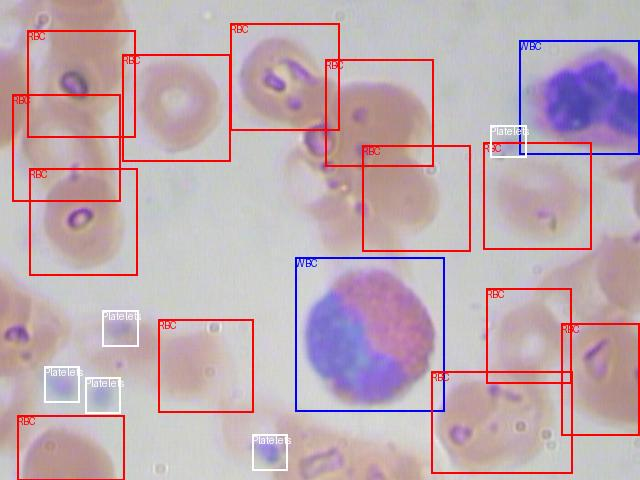Platelets: (102, 310, 138, 346), (85, 377, 120, 413), (44, 366, 79, 402), (252, 434, 287, 470), (490, 125, 526, 157)
RBC: (431, 371, 572, 473), (230, 23, 339, 130), (122, 54, 230, 161), (483, 142, 591, 249), (325, 59, 433, 166), (29, 168, 137, 275), (12, 94, 120, 201), (27, 30, 135, 137), (362, 145, 470, 251), (158, 319, 253, 412), (561, 323, 639, 435), (486, 288, 571, 383), (17, 415, 124, 480)
WBC: (295, 257, 444, 411), (519, 40, 639, 154)
